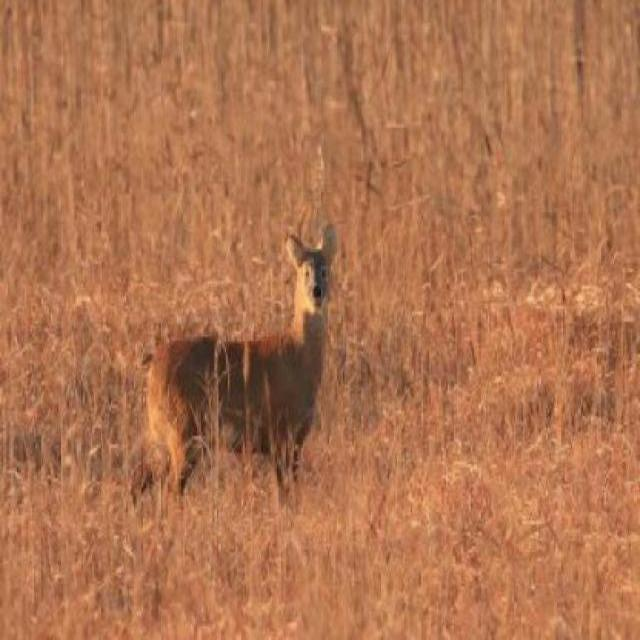deer: (130, 209, 352, 496)
